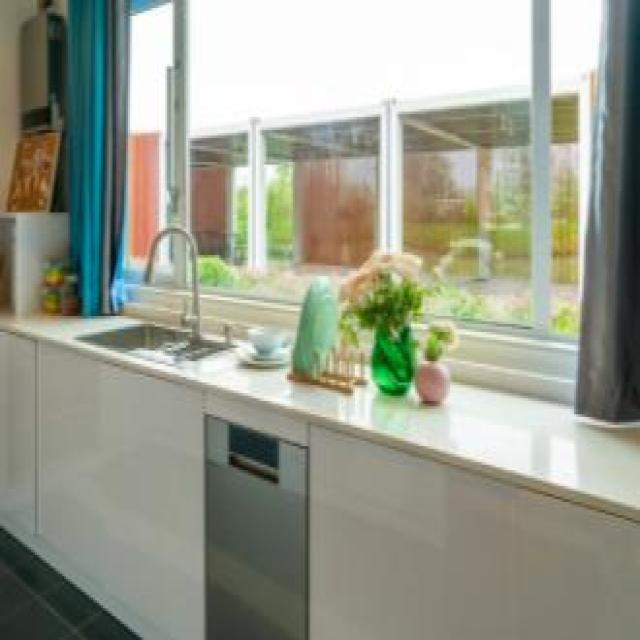dishwasher: (202, 409, 306, 637)
